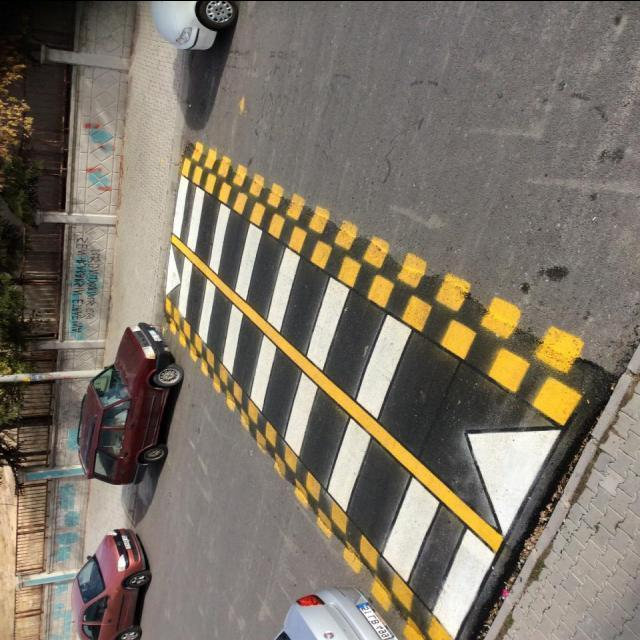Speed_Breaker: (156, 134, 615, 634), (181, 146, 615, 534), (168, 265, 468, 633)
